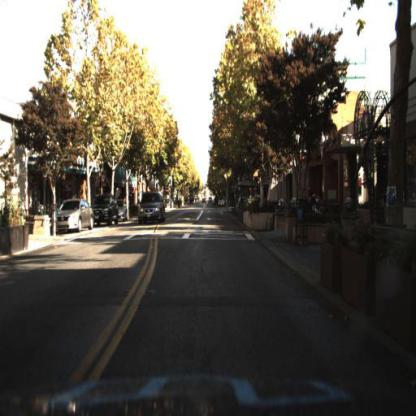car: (57, 197, 97, 236), (54, 198, 96, 235), (138, 190, 168, 226), (93, 192, 120, 228), (138, 193, 165, 223), (94, 194, 120, 225)
